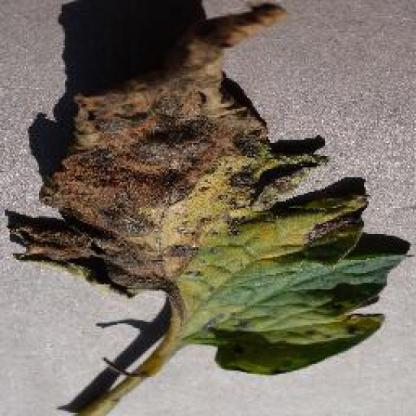Strawberry_Angular_LeafSpot: (141, 103, 216, 178), (73, 154, 146, 226), (104, 242, 182, 277), (304, 208, 367, 236)
